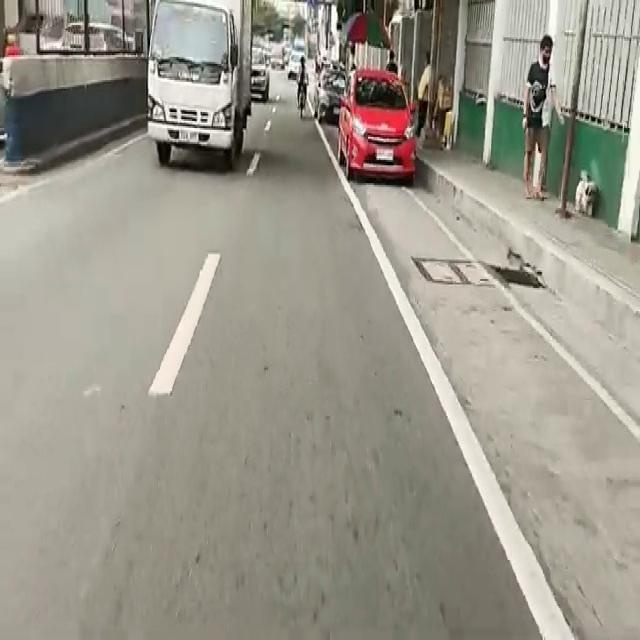car: (340, 68, 414, 184), (315, 69, 347, 128)
truck: (142, 3, 254, 180)
